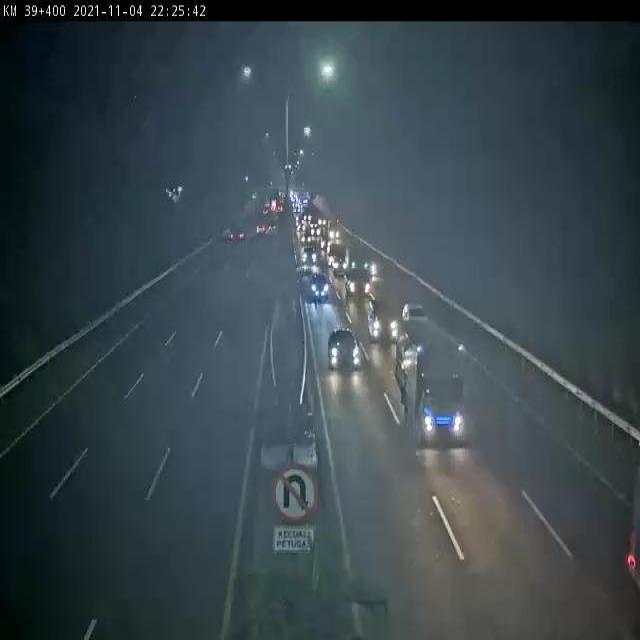ARABA: (363, 292, 403, 349), (344, 259, 376, 305), (327, 330, 359, 370), (308, 269, 332, 299)
KAMYONET: (396, 320, 466, 447)
